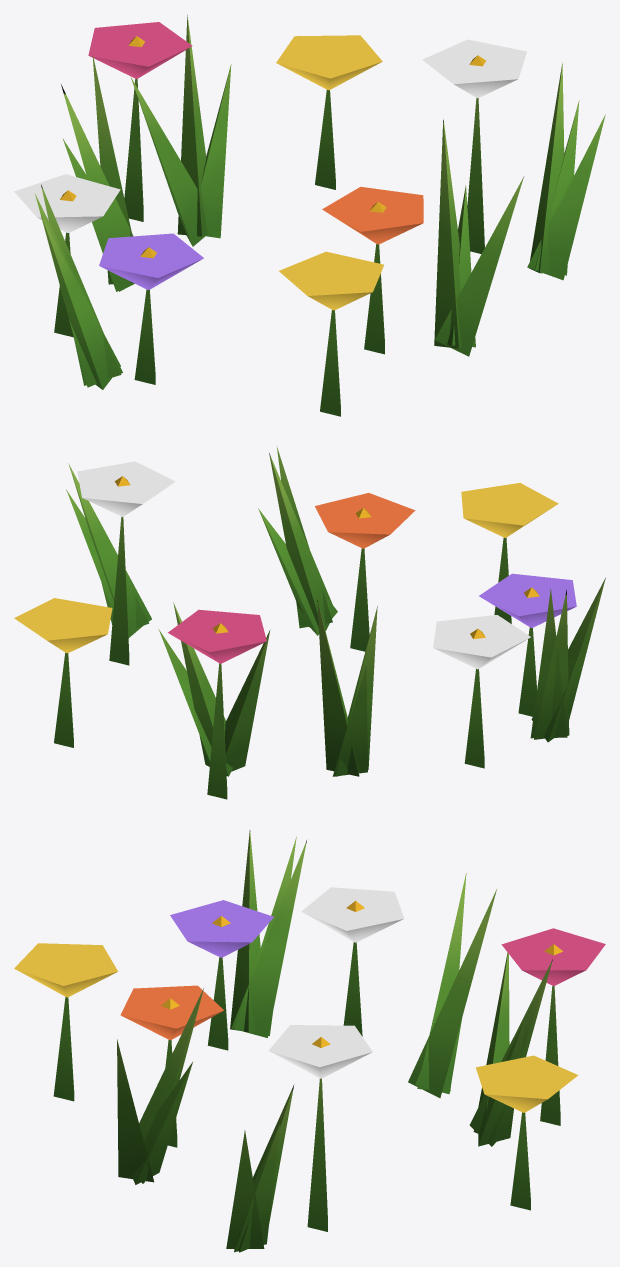
Rendered from flowers.glb.
3 views of the same model, one above another, from view 1: azimuth 30°, elevation 25°; view 2: azimuth 150°, elevation 25°; view 3: azimuth 270°, elevation 25° (orthographic). The views are drawn at different scales.
Parts seen in each view (by area): view 1: flowers; view 2: flowers; view 3: flowers.
Boxes of the visible parts, bbox=[...] form: flowers: bbox=[14, 15, 605, 416]; flowers: bbox=[14, 447, 605, 799]; flowers: bbox=[14, 830, 605, 1252].
Size of the model in its own units: 0.231 by 0.0815 by 0.2153.
1 material, 1 textured.
